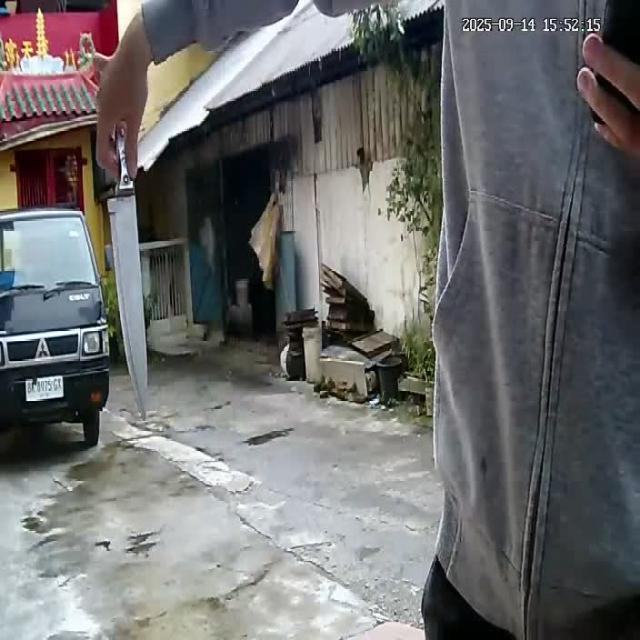senjata_tajam: (104, 178, 150, 426)
